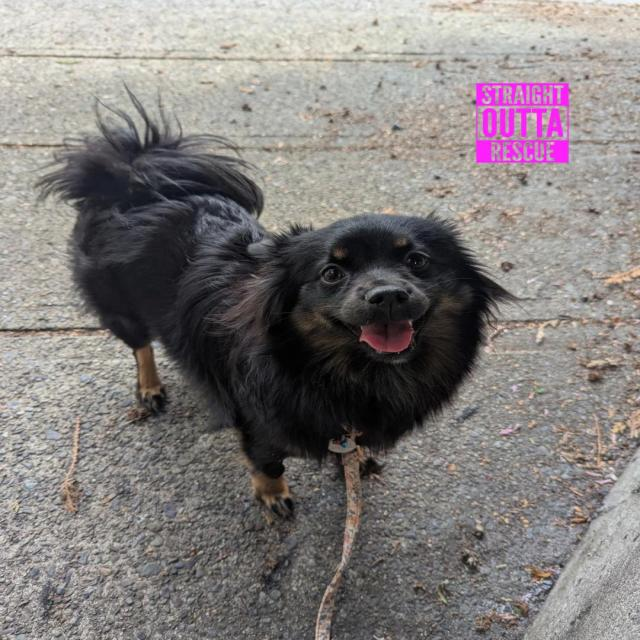pomeranian_dog: (219, 207, 532, 414)
